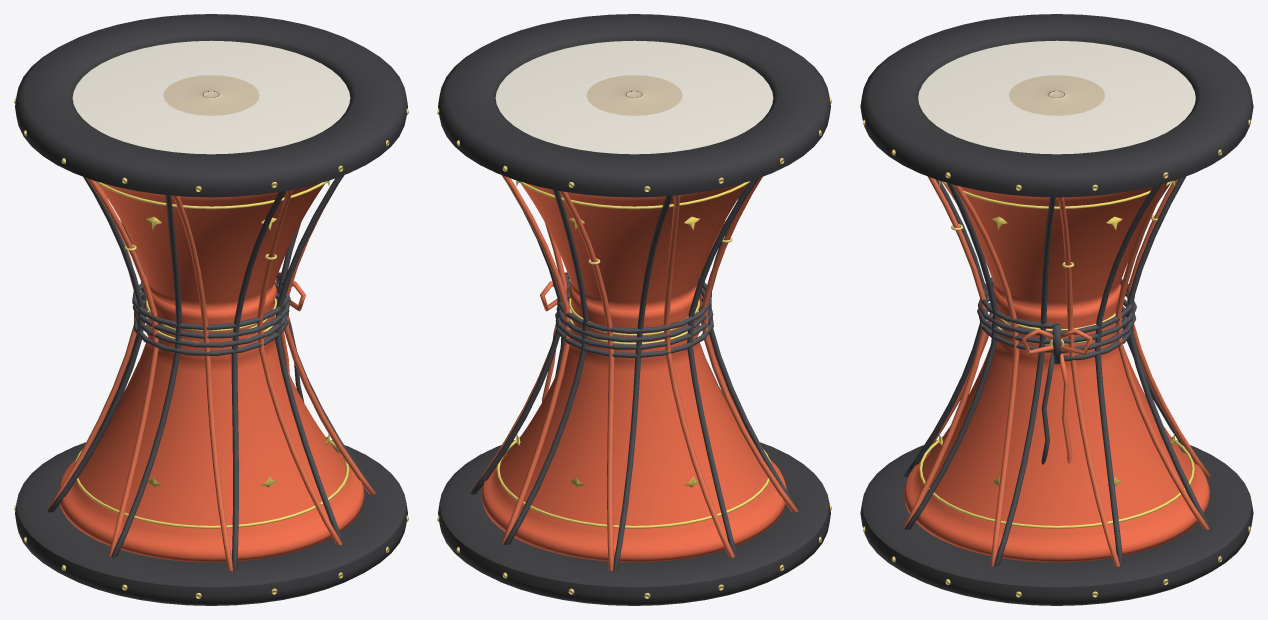
File: gakki_tsuzumi.glb
3 views of the same model, side by side, from view 1: azimuth 30°, elevation 25°; view 2: azimuth 150°, elevation 25°; view 3: azimuth 270°, elevation 25° (orthographic).
Visible parts, largest first — view 1: Body_Hourglass_Vermilion, Rim_Top_Black_Lacquer, Rim_Bottom_Black_Lacquer, Drumhead_Top_Ivory, Cord_Yoko_Coil_Black, Patch_Top_Leather, Cord_Tate_Black_5, Cord_Tate_Black_6, Cord_Tate_Red_4, Cord_Tate_Black_4, Cord_Tate_Red_5, Cord_Tate_Red_6 (+6 smaller); view 2: Body_Hourglass_Vermilion, Rim_Top_Black_Lacquer, Rim_Bottom_Black_Lacquer, Drumhead_Top_Ivory, Cord_Yoko_Coil_Black, Patch_Top_Leather, Cord_Tate_Red_2, Cord_Tate_Red_1, Cord_Tate_Black_3, Cord_Tate_Red_3, Cord_Tate_Black_2, Cord_Tate_Black_1 (+6 smaller); view 3: Body_Hourglass_Vermilion, Rim_Top_Black_Lacquer, Rim_Bottom_Black_Lacquer, Drumhead_Top_Ivory, Cord_Yoko_Coil_Black, Patch_Top_Leather, Cord_Tate_Red_7, Cord_Tate_Black_0, Cord_Tate_Black_7, Cord_Tate_Red_0, Cord_Tate_Red_1, Cord_Tate_Black_6 (+8 smaller).
Boxes of the visible parts, x1,y1,x2,y2 form: Body_Hourglass_Vermilion: (58, 183, 364, 562); Rim_Top_Black_Lacquer: (15, 14, 407, 197); Rim_Bottom_Black_Lacquer: (15, 440, 407, 605); Drumhead_Top_Ivory: (72, 40, 350, 154); Cord_Yoko_Coil_Black: (132, 274, 290, 355); Patch_Top_Leather: (163, 75, 259, 115); Cord_Tate_Black_5: (231, 191, 286, 570); Cord_Tate_Black_6: (275, 175, 344, 543); Cord_Tate_Red_4: (86, 178, 158, 556); Cord_Tate_Black_4: (111, 195, 182, 557); Cord_Tate_Red_5: (173, 195, 232, 570); Cord_Tate_Red_6: (257, 189, 342, 545); Body_Hourglass_Vermilion: (481, 183, 787, 562); Rim_Top_Black_Lacquer: (438, 14, 830, 197); Rim_Bottom_Black_Lacquer: (438, 440, 830, 605); Drumhead_Top_Ivory: (495, 40, 773, 154); Cord_Yoko_Coil_Black: (555, 274, 713, 358); Patch_Top_Leather: (586, 75, 682, 115); Cord_Tate_Red_2: (559, 191, 614, 570); Cord_Tate_Red_1: (501, 175, 570, 543); Cord_Tate_Black_3: (687, 178, 759, 556); Cord_Tate_Red_3: (663, 195, 734, 557); Cord_Tate_Black_2: (613, 195, 672, 570); Cord_Tate_Black_1: (503, 189, 588, 545); Body_Hourglass_Vermilion: (904, 184, 1209, 562); Rim_Top_Black_Lacquer: (860, 14, 1253, 197); Rim_Bottom_Black_Lacquer: (860, 440, 1253, 605); Drumhead_Top_Ivory: (918, 40, 1195, 154); Cord_Yoko_Coil_Black: (977, 277, 1136, 361); Patch_Top_Leather: (1009, 75, 1104, 115); Cord_Tate_Red_7: (952, 184, 1019, 565); Cord_Tate_Black_0: (1094, 184, 1161, 565); Cord_Tate_Black_7: (994, 197, 1055, 566); Cord_Tate_Red_0: (1058, 197, 1119, 566); Cord_Tate_Red_1: (1115, 182, 1209, 529); Cord_Tate_Black_6: (904, 182, 998, 529).
Bounding box in the file's own units: 1.6 × 1.95 × 1.6.
